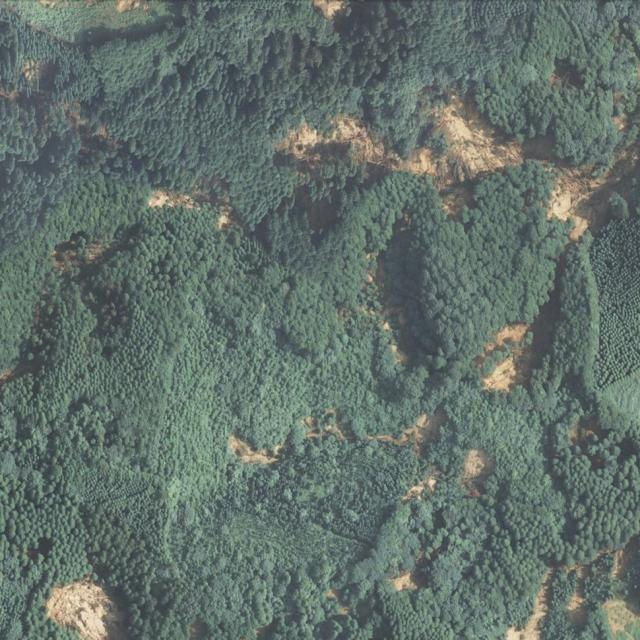landslide: (276, 91, 640, 241), (43, 577, 129, 640), (481, 323, 533, 392), (509, 571, 551, 640), (51, 242, 114, 273), (601, 592, 640, 635)
